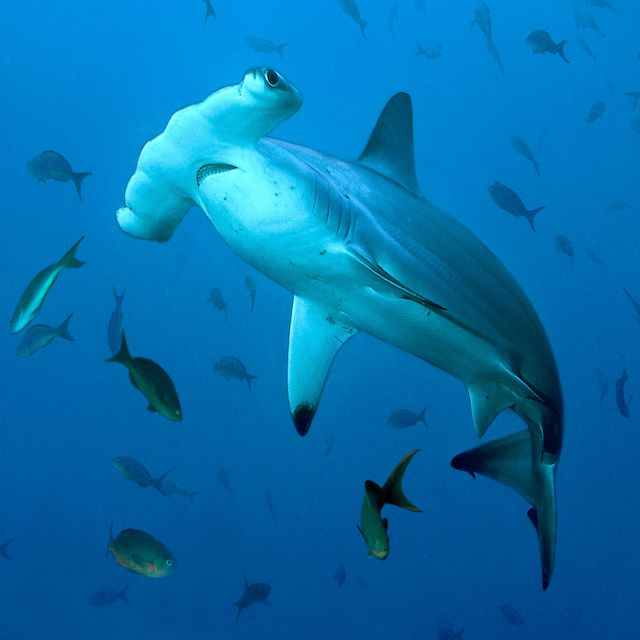hammerhead: (127, 58, 571, 476)
